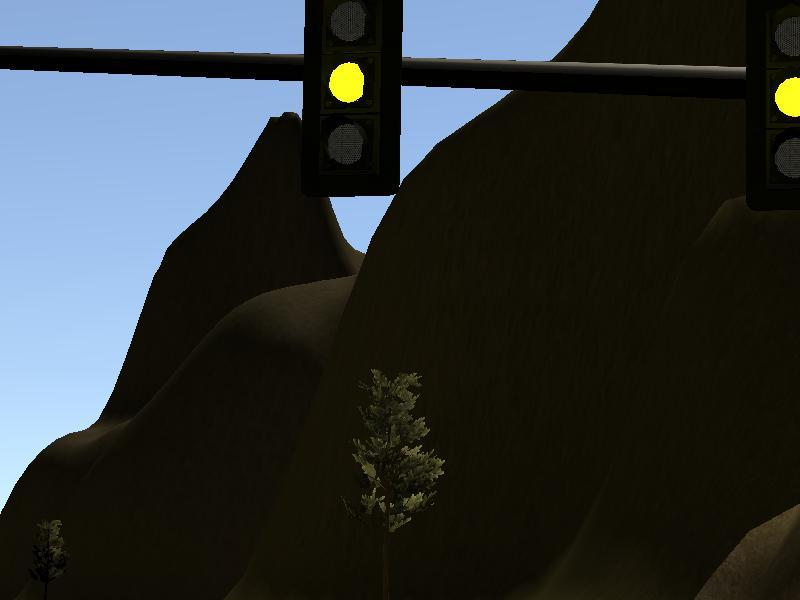Yellow: (300, 1, 405, 196), (748, 1, 800, 212)
